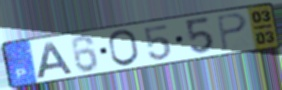5: (183, 15, 217, 56), (141, 22, 174, 61)
6: (70, 34, 100, 75)
A: (35, 40, 74, 80)
O: (107, 28, 141, 68)
P: (215, 12, 250, 52)
